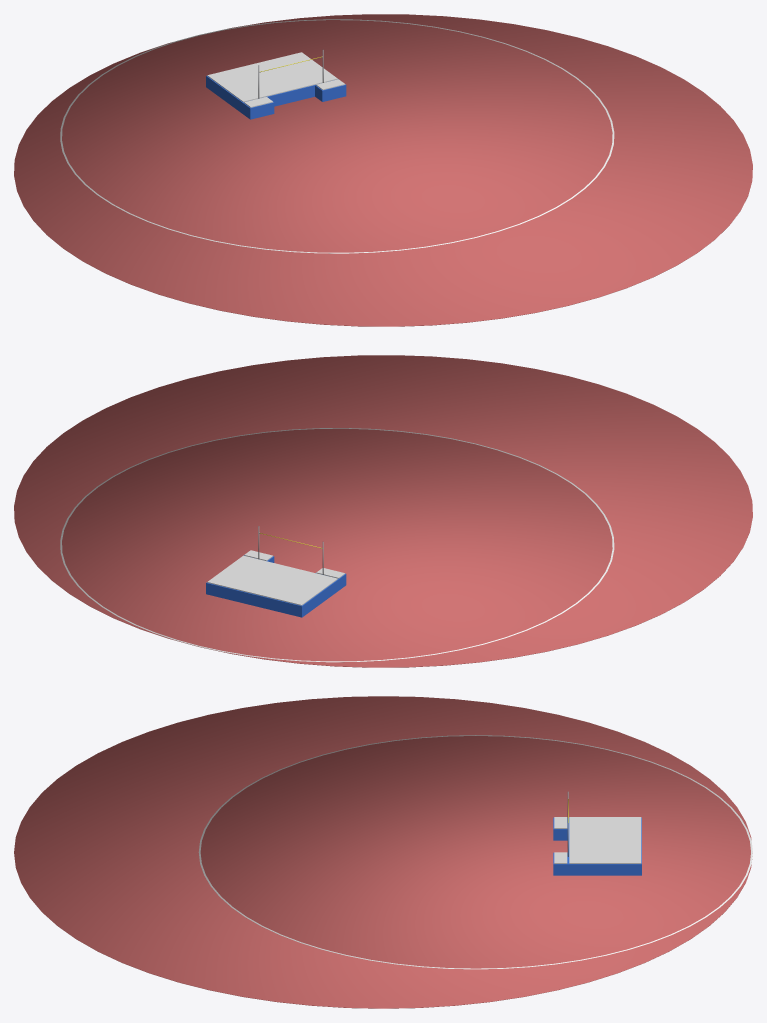
Rendered from Run-up area.glb.
The picture shows the model from 3 angles, top to bottom: view 1: azimuth 30°, elevation 25°; view 2: azimuth 150°, elevation 25°; view 3: azimuth 270°, elevation 25°; orthographic projection.
Visible parts, largest first — view 1: HighJump_Approach_Mask, HighJump_Apron, HJ_Mat_WearPad_Main, HighJump_Approach_Line, HJ_Mat_Main; view 2: HighJump_Approach_Mask, HighJump_Apron, HJ_Mat_WearPad_Main, HighJump_Approach_Line, HJ_Mat_Main; view 3: HighJump_Approach_Mask, HighJump_Apron, HJ_Mat_WearPad_Main, HighJump_Approach_Line, HJ_Mat_Main.
Part boxes in pixels (left/top/right/bottom): HighJump_Approach_Mask: left=62, top=20, right=612, bottom=252; HighJump_Apron: left=14, top=14, right=752, bottom=326; HJ_Mat_WearPad_Main: left=207, top=52, right=337, bottom=102; HighJump_Approach_Line: left=60, top=19, right=614, bottom=253; HJ_Mat_Main: left=206, top=76, right=338, bottom=113; HighJump_Approach_Mask: left=62, top=428, right=612, bottom=661; HighJump_Apron: left=14, top=355, right=752, bottom=667; HJ_Mat_WearPad_Main: left=207, top=555, right=337, bottom=605; HighJump_Approach_Line: left=60, top=428, right=614, bottom=662; HJ_Mat_Main: left=206, top=579, right=338, bottom=617; HighJump_Approach_Mask: left=200, top=736, right=750, bottom=968; HighJump_Apron: left=14, top=696, right=751, bottom=1008; HJ_Mat_WearPad_Main: left=569, top=817, right=641, bottom=863; HighJump_Approach_Line: left=198, top=735, right=752, bottom=969; HJ_Mat_Main: left=568, top=817, right=641, bottom=875.
Bounding box in the file's own units: 40 × 2.7 × 40.
